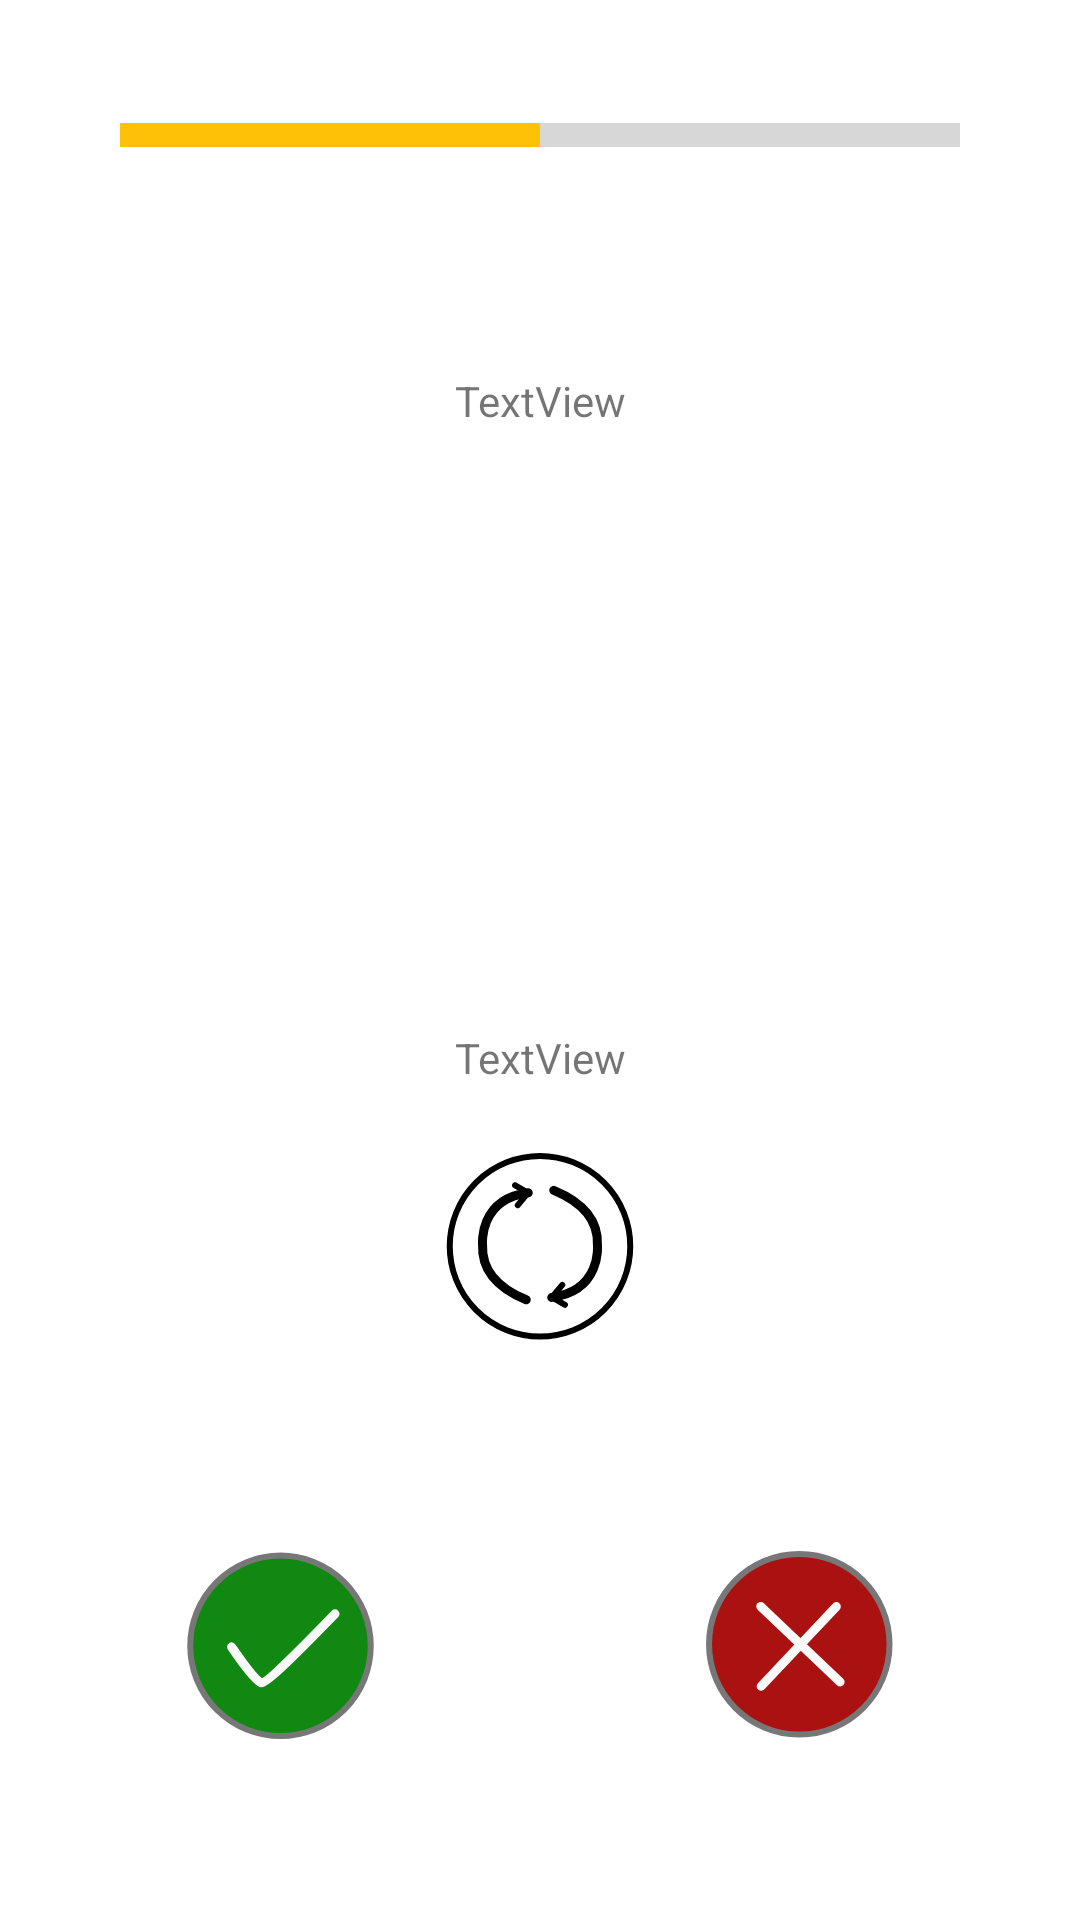

Icon bounding boxes for this 1080 × 1920 phone screenshot, format [x1,y1,x2,y2]:
flip: [446,1153,634,1340]
right: [187,1552,374,1739]
wrong: [706,1551,893,1738]
